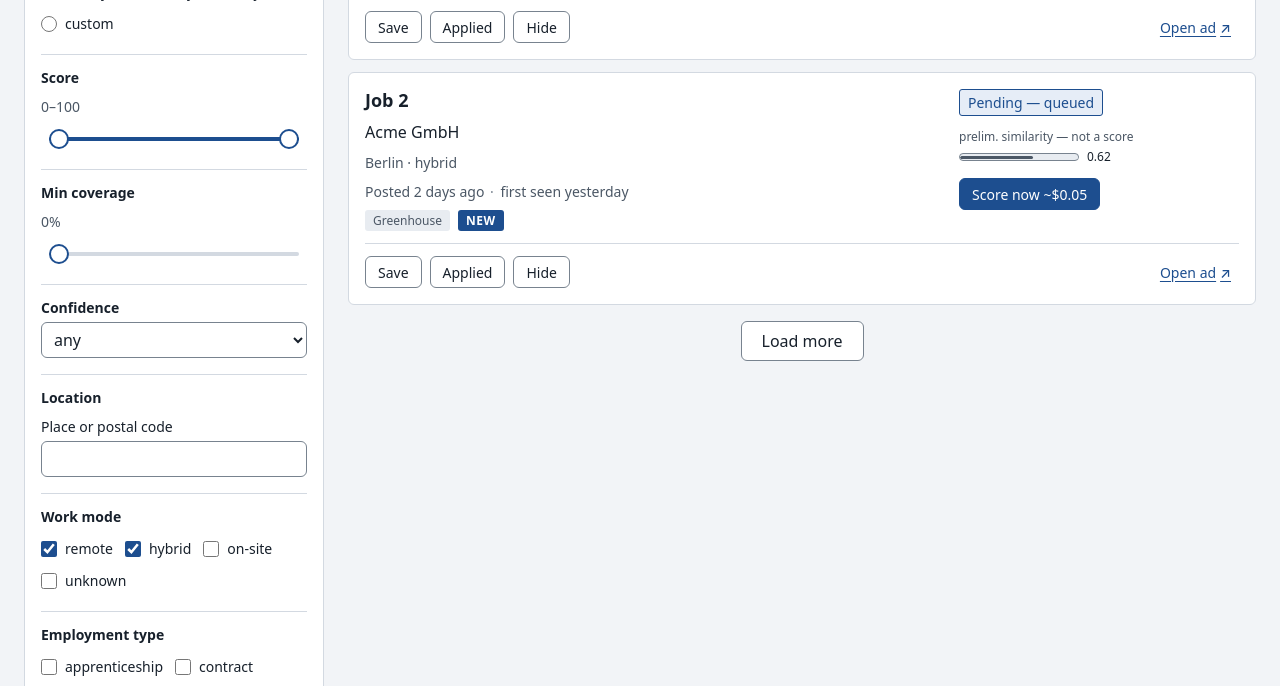
useJobsList › pages with next_cursor
The image size is (1280, 686).
(page scrolled)
Check: the element "Job 2" is shown, box [348,72,1256,305]
What coordinates should you click on to do the following:
click the button "Load more"
I would click on:
 (802, 341)
Its box is [740,321,864,361].
(page scrolled)
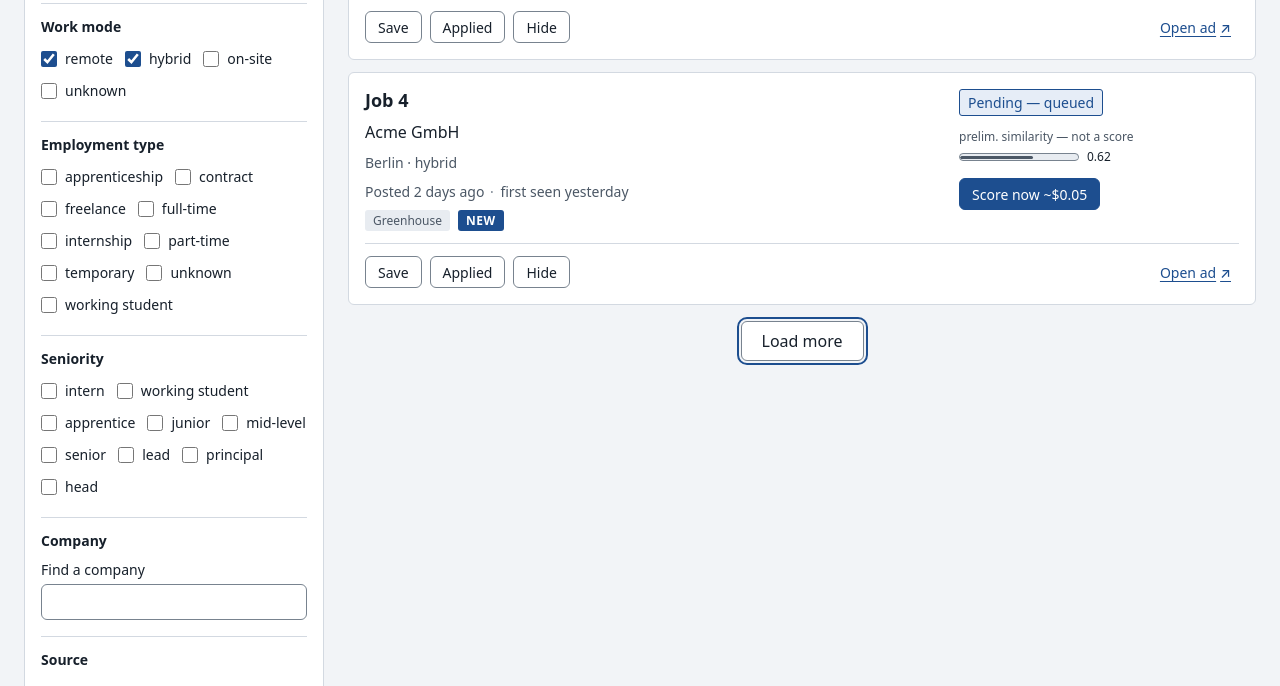
Check: the element "Job 4" is shown, box [348,72,1256,305]
What coordinates should you click on to do the following:
click the button "Load more"
I would click on:
 (802, 341)
Its box is [740,321,864,361].
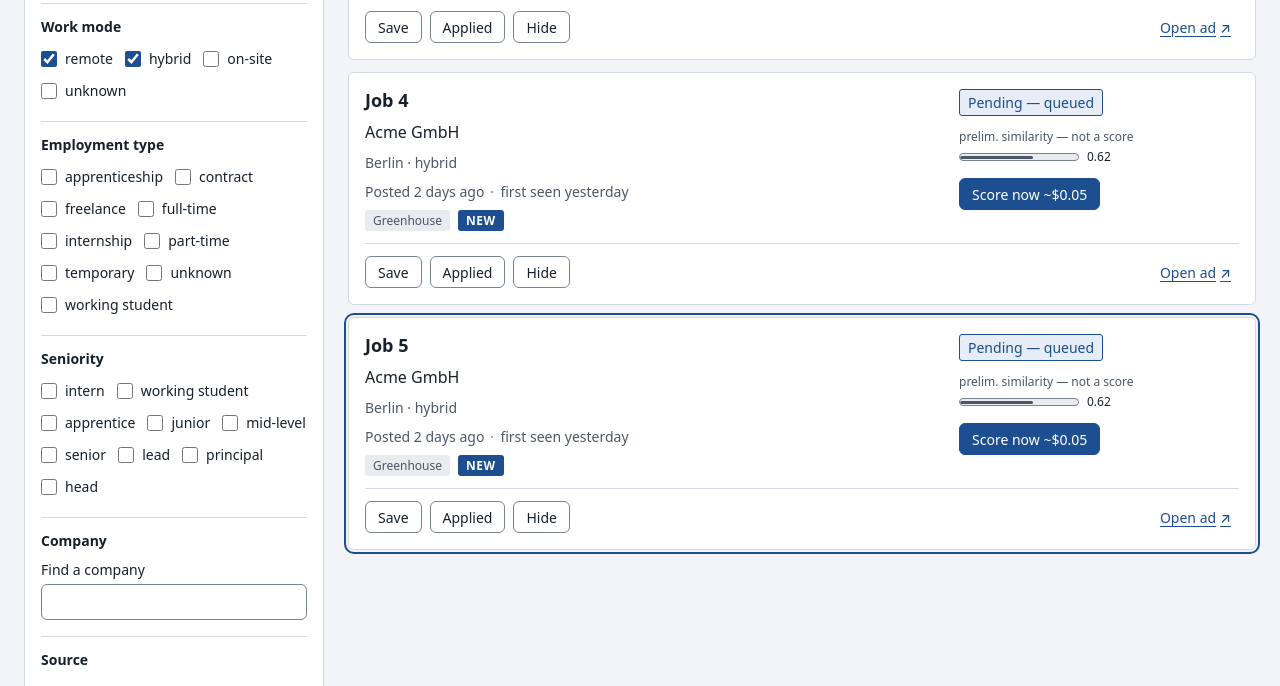
Check: the element "Job 5" is shown, box [348,317,1256,550]
Check: the button "Load more" is gone
